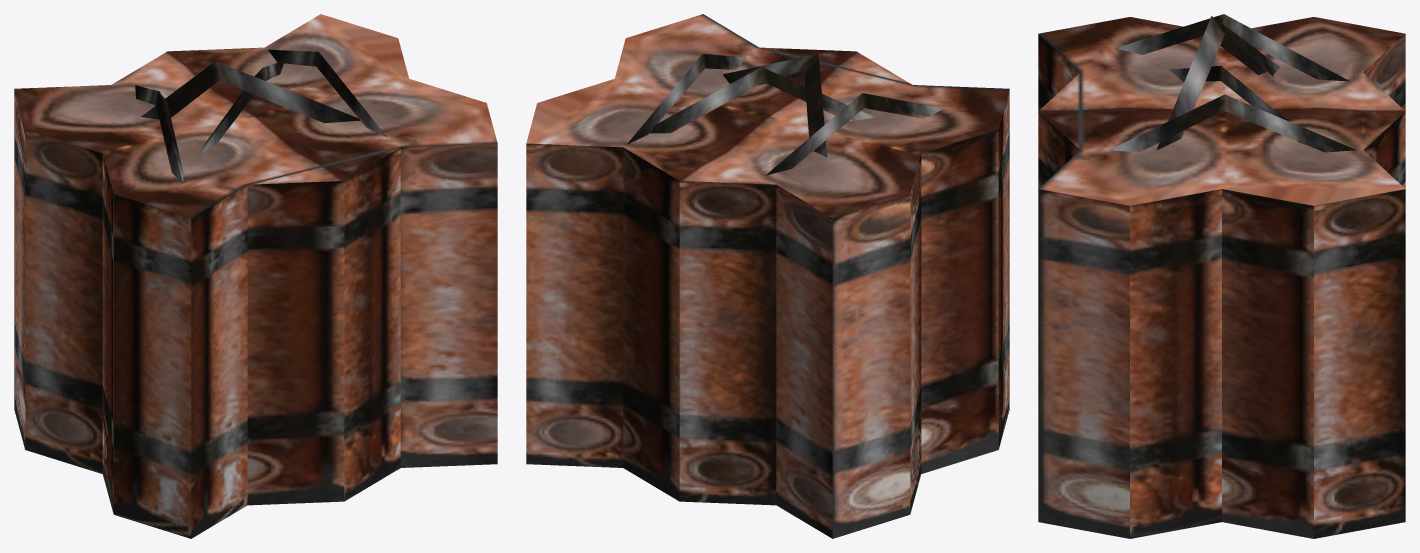
File: Dynamit.glb
The picture shows the model from 3 angles, left to right: view 1: azimuth 30°, elevation 25°; view 2: azimuth 150°, elevation 25°; view 3: azimuth 270°, elevation 25°; orthographic projection. The views are drawn at different scales.
Parts seen in each view (by area): view 1: Dynamitt; view 2: Dynamitt; view 3: Dynamitt.
Boxes of the visible parts, x1,y1,x2,y2 form: Dynamitt: (14,14,497,538); Dynamitt: (526,14,1009,538); Dynamitt: (1038,14,1405,538).
Size of the model in its own units: 2.43 by 2.44 by 2.
Materials: 1 (1 with a texture image).
